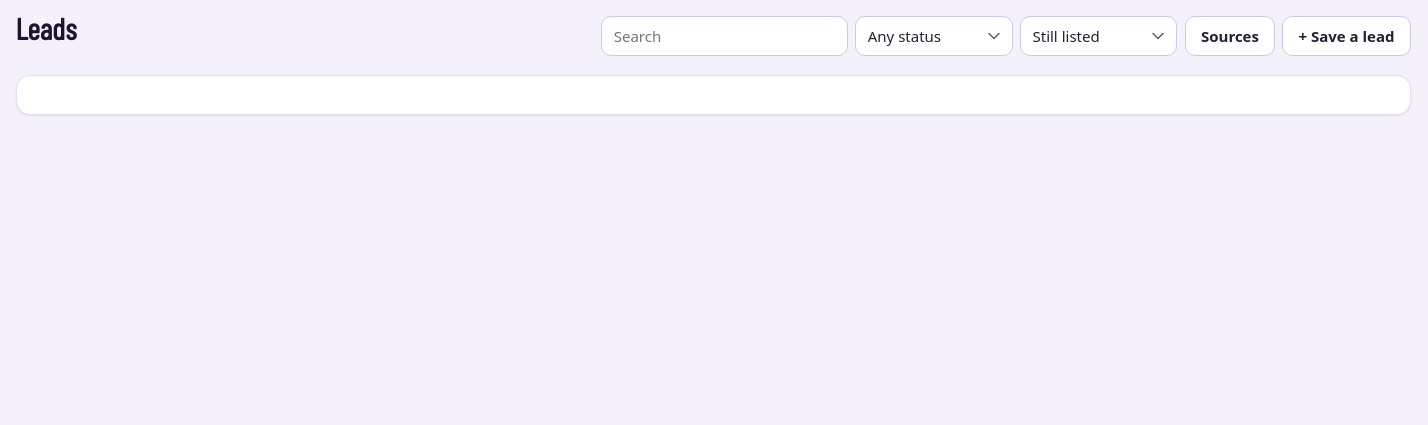
Test case: leads › saves an ad found elsewhere from the + Save a lead button
Expected: the form "Save an ad" is not shown
Click the button "+ Save a lead".
click(1346, 36)  # box top-left (1282, 16), bottom-right (1410, 56)
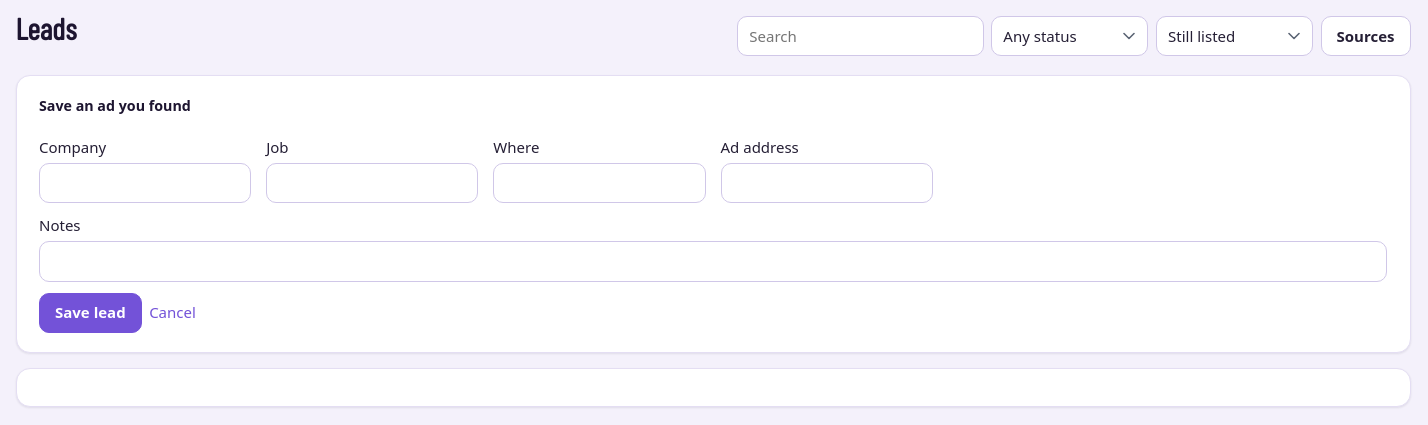
Type "Contoh Berhad" into the field labelled "Company".
click(145, 183); type("Contoh Berhad")  # box top-left (39, 163), bottom-right (251, 203)
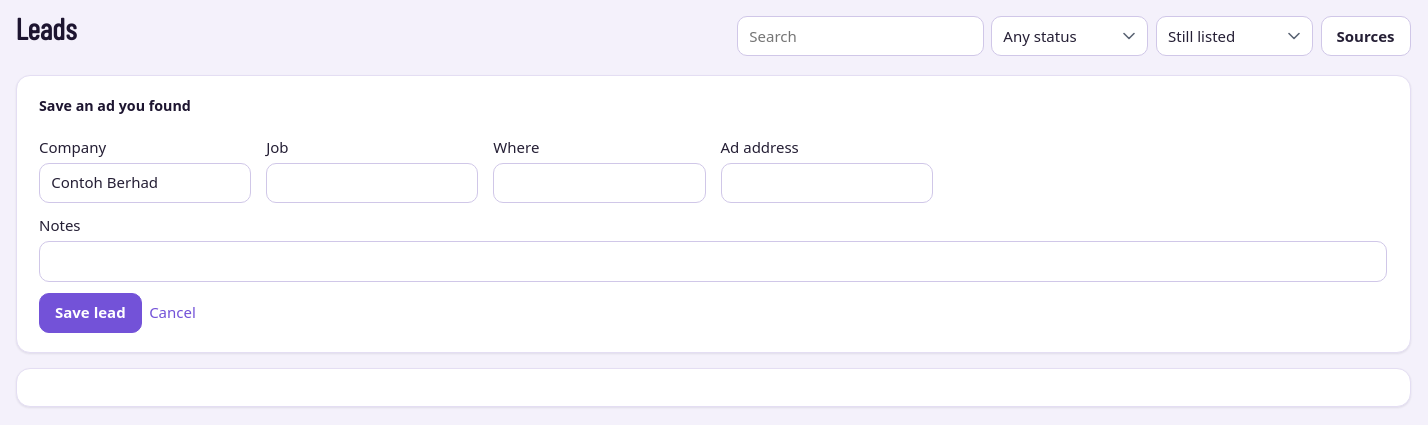
Type "Account Executive" into the field labelled "Job".
click(372, 183); type("Account Executive")  # box top-left (266, 163), bottom-right (478, 203)
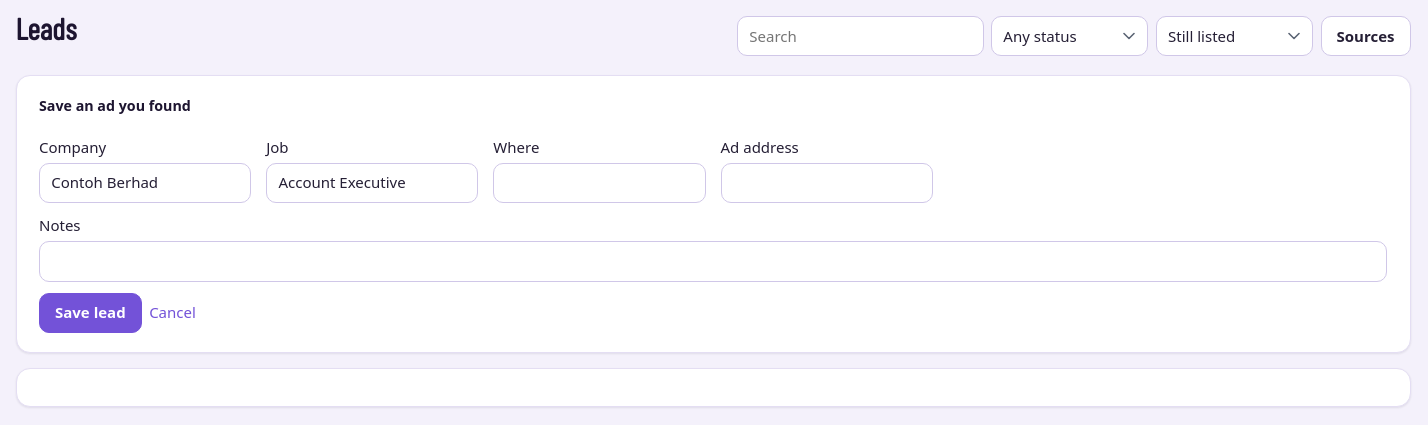
Click the button "Save lead".
click(90, 313)  # box top-left (39, 293), bottom-right (142, 333)
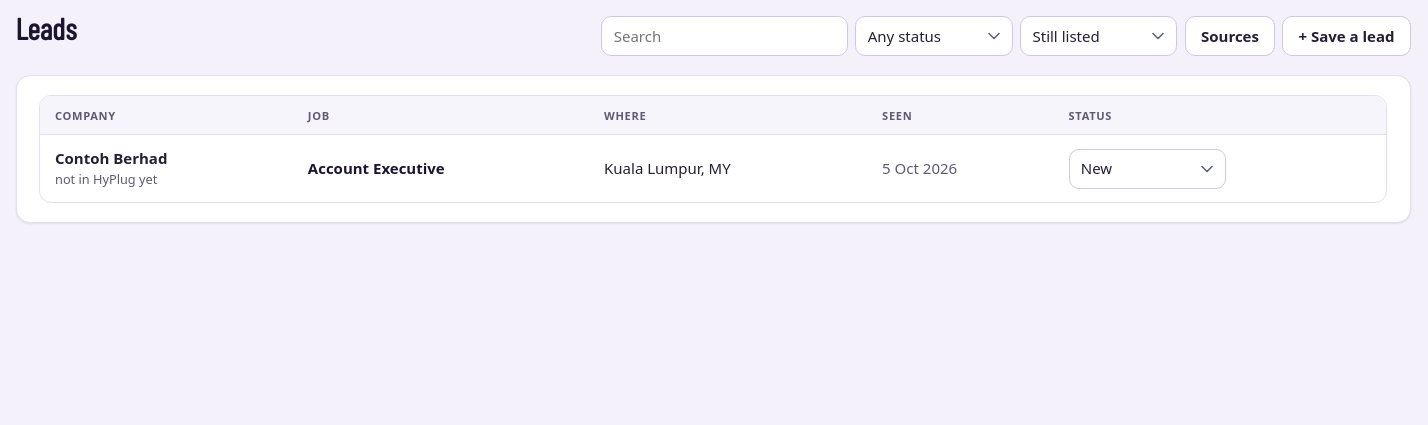
Now the heading "Save an ad" is gone
